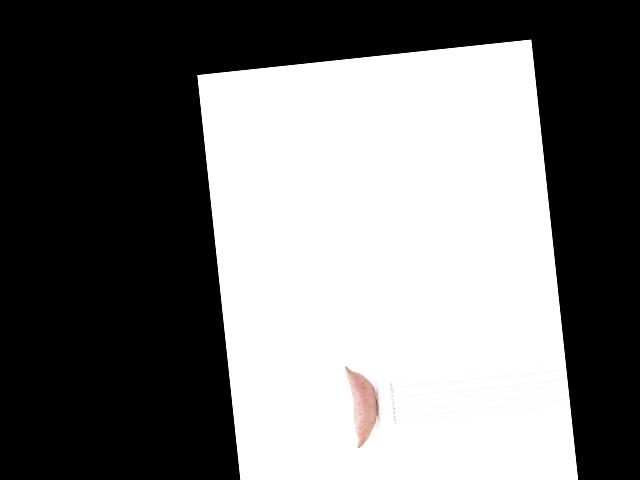sweet_potato: (340, 362, 382, 449)
